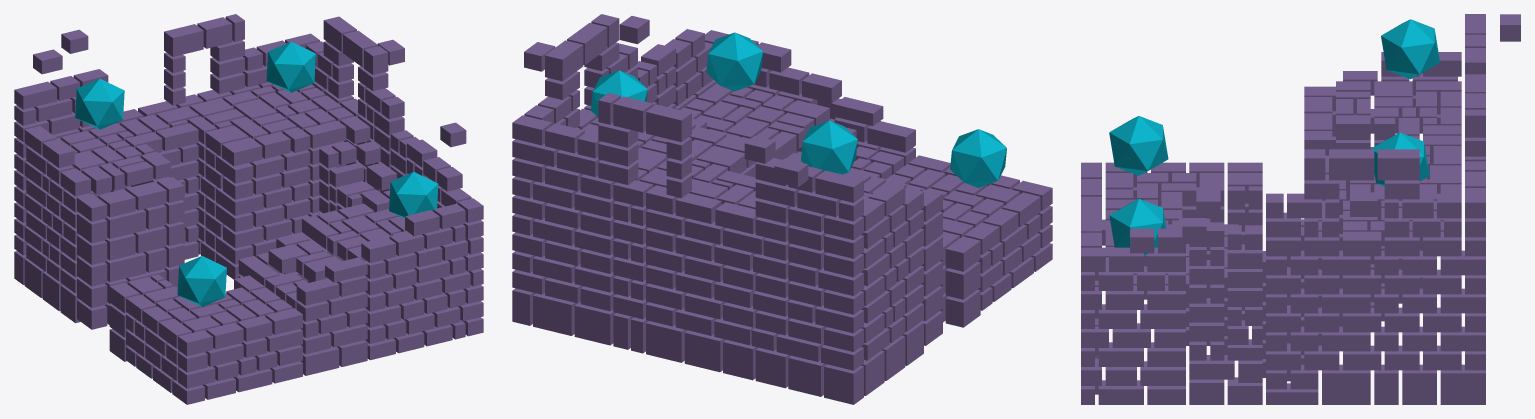
Rendered from torre.glb.
3 renders of one model, left to right at view 1: azimuth 30°, elevation 25°; view 2: azimuth 150°, elevation 25°; view 3: azimuth 270°, elevation 25°, orthographic. The views are drawn at different scales.
Parts seen in each view (by area): view 1: Mesh_Mesh_head_geo.001_lambert2SG.001; view 2: Mesh_Mesh_head_geo.001_lambert2SG.001; view 3: Mesh_Mesh_head_geo.001_lambert2SG.001.
Part boxes in pixels (x1=…): Mesh_Mesh_head_geo.001_lambert2SG.001: x1=14, y1=14, x2=483, y2=404; Mesh_Mesh_head_geo.001_lambert2SG.001: x1=512, y1=14, x2=1052, y2=404; Mesh_Mesh_head_geo.001_lambert2SG.001: x1=1081, y1=14, x2=1520, y2=404.
Bounding box in the file's own units: 0.129 × 0.082 × 0.126.
